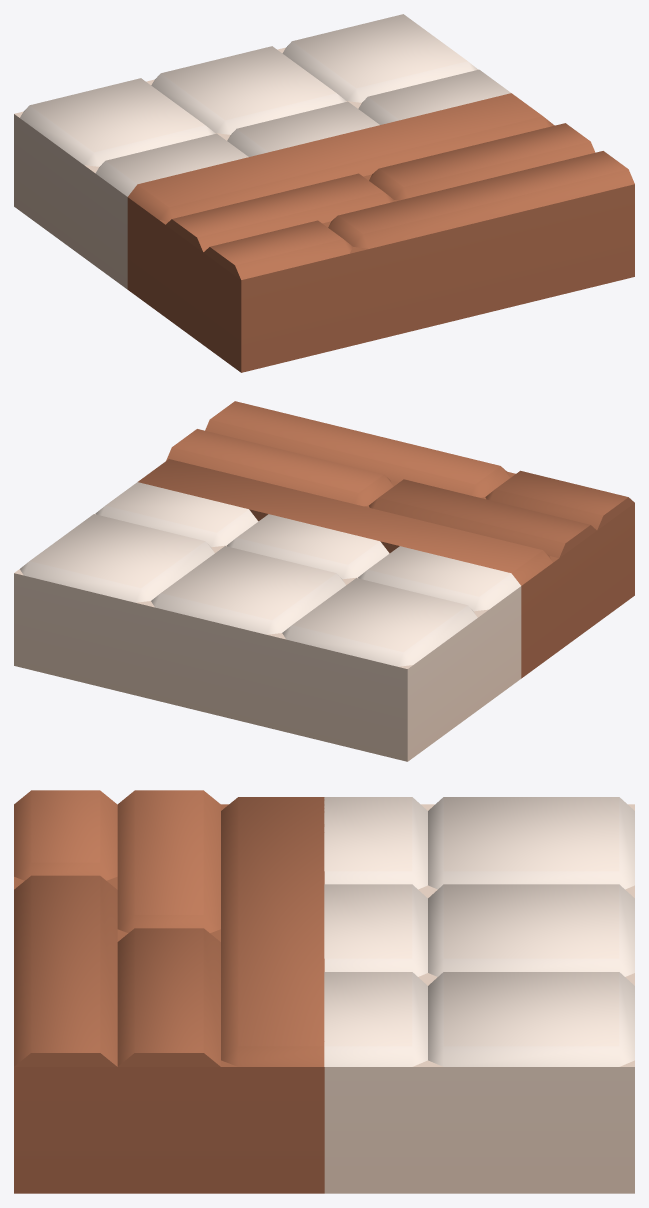
The model's file is floor-connection.glb.
3 renders of one model, top to bottom at view 1: azimuth 30°, elevation 25°; view 2: azimuth 150°, elevation 25°; view 3: azimuth 270°, elevation 25°, orthographic. The views are drawn at different scales.
Visible parts, largest first — view 1: floor_connection; view 2: floor_connection; view 3: floor_connection.
Boxes of the visible parts, left/top/right/bottom form: floor_connection: left=14, top=14, right=634, bottom=372; floor_connection: left=14, top=401, right=634, bottom=761; floor_connection: left=14, top=790, right=634, bottom=1193.
Size of the model in its own units: 2 by 0.5 by 2.
1 material, 1 textured.
